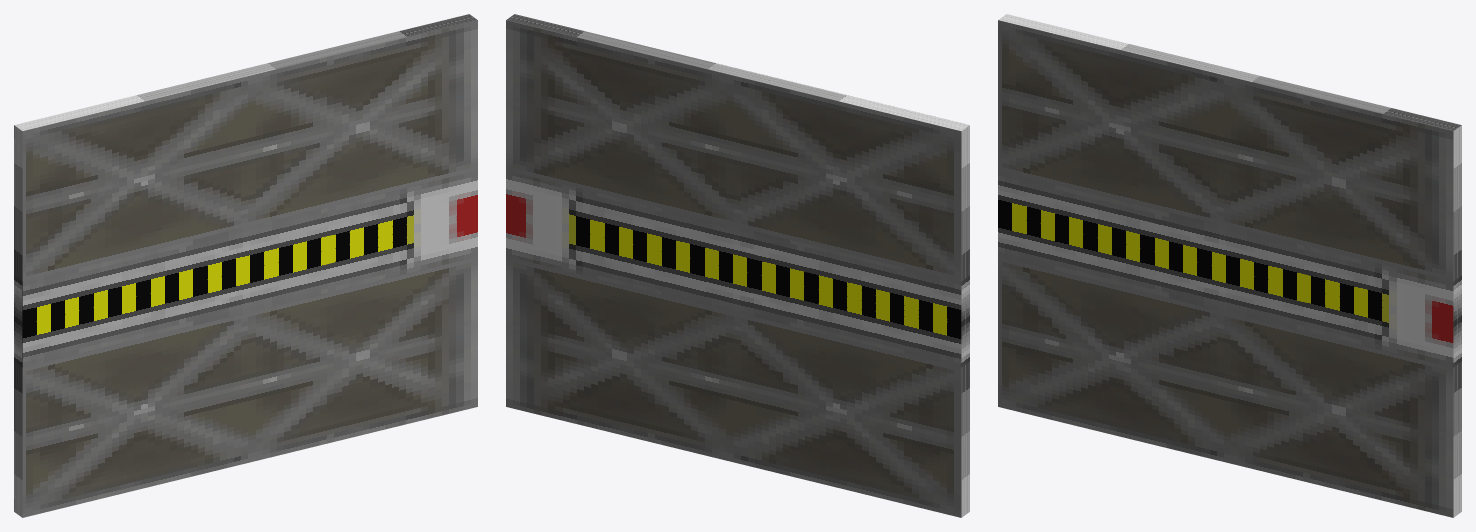
The model's file is Puerta.fbx.
The picture shows the model from 3 angles, left to right: view 1: azimuth 30°, elevation 25°; view 2: azimuth 150°, elevation 25°; view 3: azimuth 330°, elevation 25°; orthographic projection.
Parts seen in each view (by area): view 1: Cube; view 2: Cube; view 3: Cube.
Part boxes in pixels (box(x1,y1,x2,y2)): Cube: box(14, 14, 477, 517); Cube: box(506, 14, 969, 517); Cube: box(998, 14, 1461, 517).
Bounding box in the file's own units: 9750 × 7912 × 313.
Materials: 1 (1 with a texture image).
